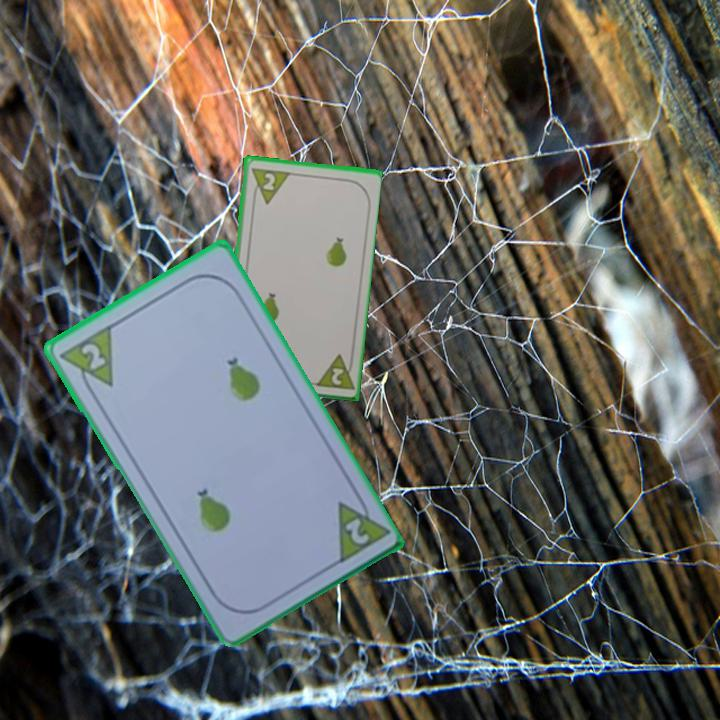2p: (55, 321, 116, 399), (311, 350, 356, 393), (340, 513, 372, 548), (259, 169, 278, 193)
